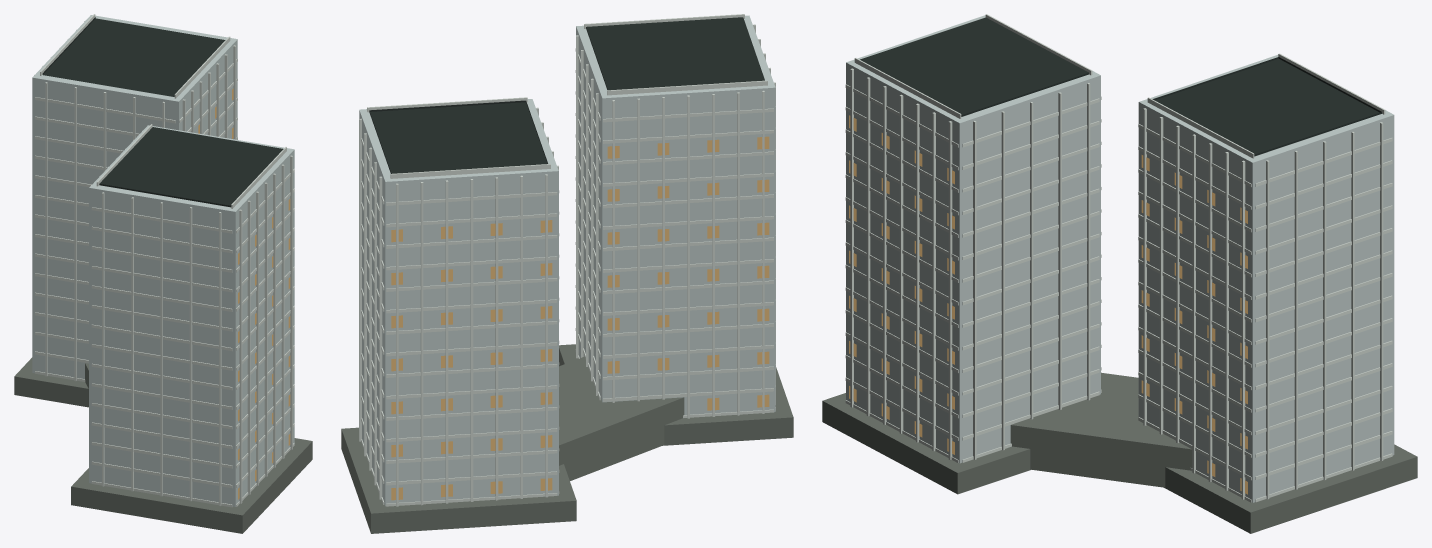
The model's file is tsinghua-research.glb.
The picture shows the model from 3 angles, left to right: view 1: azimuth 30°, elevation 25°; view 2: azimuth 150°, elevation 25°; view 3: azimuth 270°, elevation 25°; orthographic projection. The views are drawn at different scales.
Visible parts, largest first — view 1: envelope, roof_deck, fins, floor_bands, podium, parapet, night_windows; view 2: envelope, fins, floor_bands, roof_deck, podium, podium_link, night_windows, parapet; view 3: envelope, fins, floor_bands, roof_deck, podium, podium_link, night_windows, parapet.
Part boxes in pixels (<box>): envelope: <box>32,15,294,506</box>; roof_deck: <box>42,17,283,207</box>; fins: <box>34,21,292,506</box>; floor_bands: <box>35,58,294,507</box>; podium: <box>14,357,312,533</box>; parapet: <box>40,14,286,208</box>; night_windows: <box>198,88,290,499</box>; envelope: <box>359,15,775,506</box>; fins: <box>359,24,775,506</box>; floor_bands: <box>361,48,775,506</box>; roof_deck: <box>369,17,764,173</box>; podium: <box>341,344,793,533</box>; podium_link: <box>559,356,684,480</box>; night_windows: <box>391,136,769,500</box>; parapet: <box>367,14,767,178</box>; envelope: <box>846,15,1394,502</box>; fins: <box>850,68,1383,499</box>; floor_bands: <box>845,84,1392,502</box>; roof_deck: <box>860,17,1381,156</box>; podium: <box>822,393,1417,533</box>; podium_link: <box>1010,372,1192,487</box>; night_windows: <box>849,115,1247,494</box>; parapet: <box>854,14,1385,158</box>.
Size of the model in its own units: 101 by 103 by 152.
